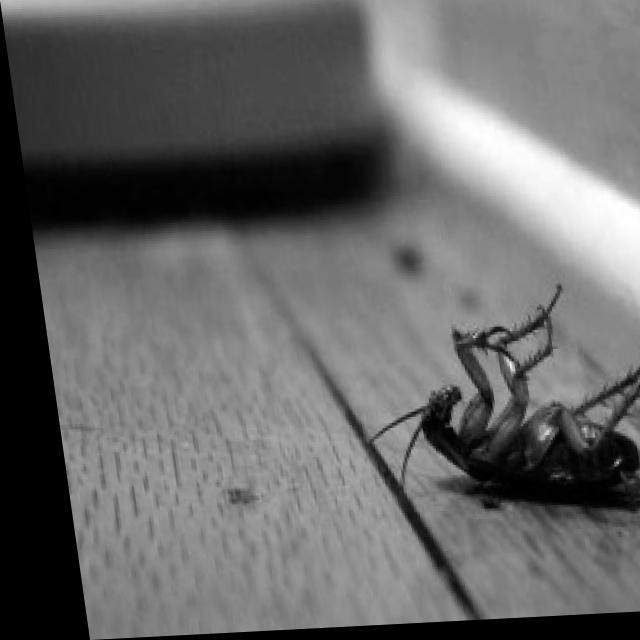cockroach: (366, 279, 638, 511)
